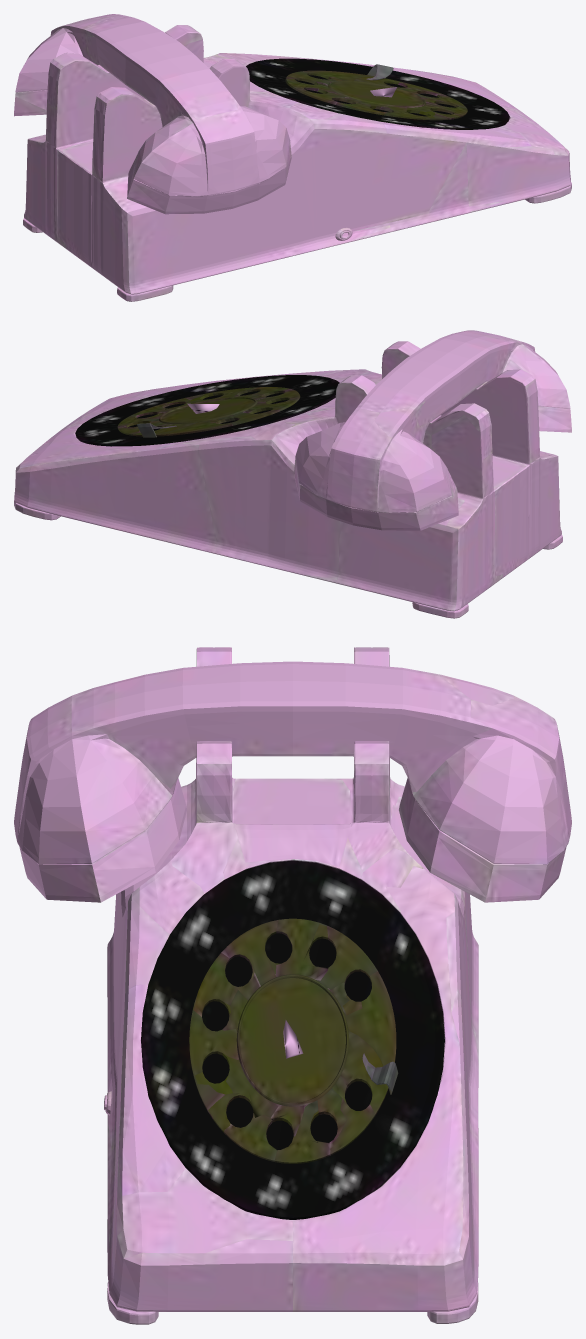
Rendered from telephone_0.glb.
3 renders of one model, top to bottom at view 1: azimuth 30°, elevation 25°; view 2: azimuth 150°, elevation 25°; view 3: azimuth 270°, elevation 25°, orthographic. The views are drawn at different scales.
Visible parts, largest first — view 1: telephone_0; view 2: telephone_0; view 3: telephone_0.
Part boxes in pixels (x1,y1,x2,y2): telephone_0: (14, 14, 571, 301); telephone_0: (14, 330, 571, 618); telephone_0: (14, 647, 571, 1324).
Size of the model in its own units: 0.4359 by 0.1807 by 0.2723.
1 material, 1 textured.
